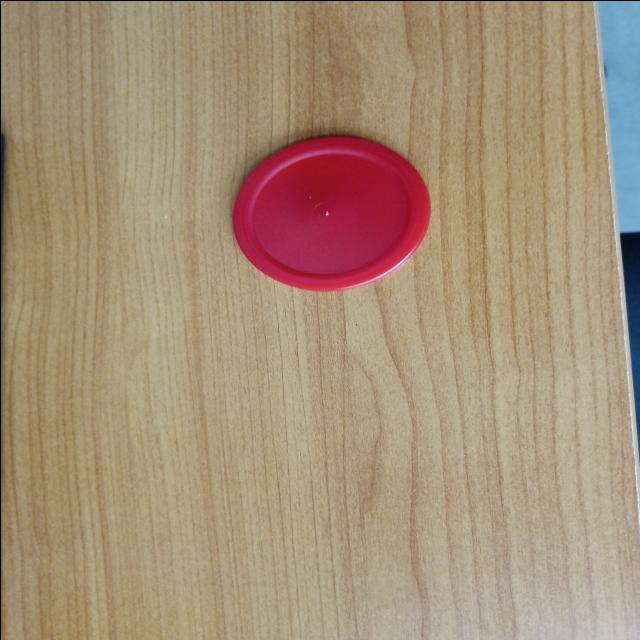chip: (228, 134, 432, 292)
